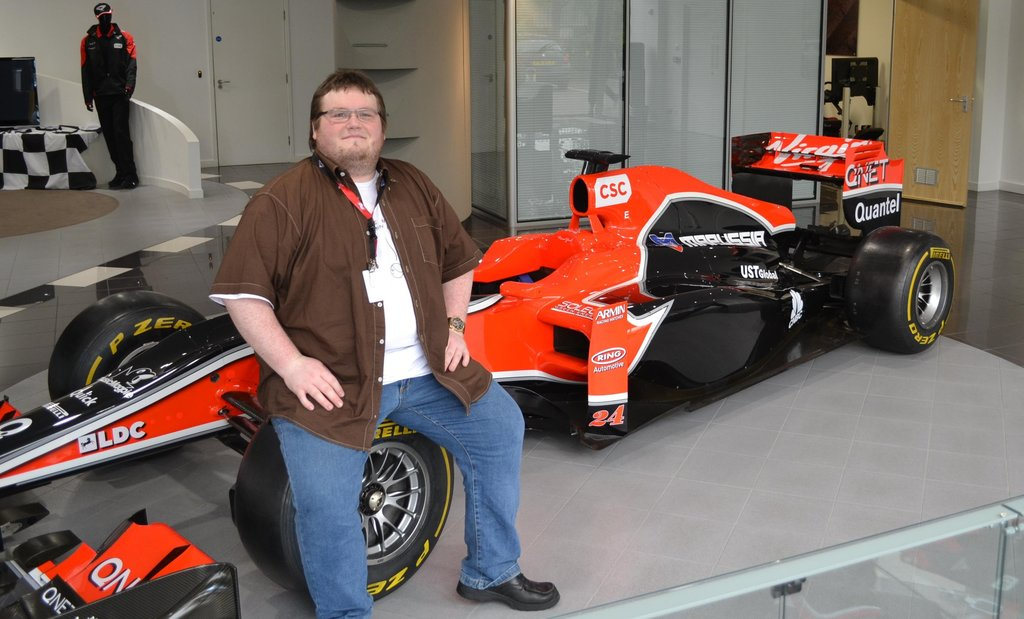Car: (466, 128, 955, 490), (0, 289, 464, 618)
